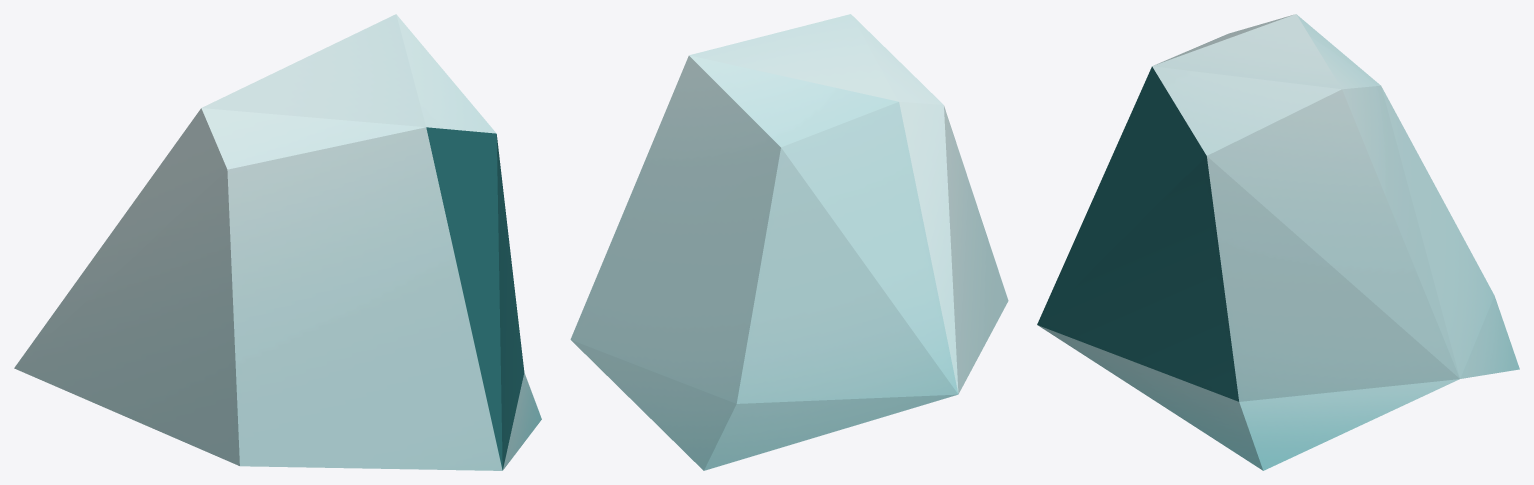
File: IceFallEffect.obj
3 views of the same model, side by side, from view 1: azimuth 30°, elevation 25°; view 2: azimuth 150°, elevation 25°; view 3: azimuth 270°, elevation 25° (orthographic). The views are drawn at different scales.
Parts seen in each view (by area): view 1: rock; view 2: rock; view 3: rock.
Boxes of the visible parts, x1,y1,x2,y2 form: rock: (14, 14, 541, 470); rock: (570, 14, 1008, 470); rock: (1037, 14, 1519, 470).
Bounding box in the file's own units: 0.9306 × 0.7824 × 1.01.
Materials: 1 (1 with a texture image).
